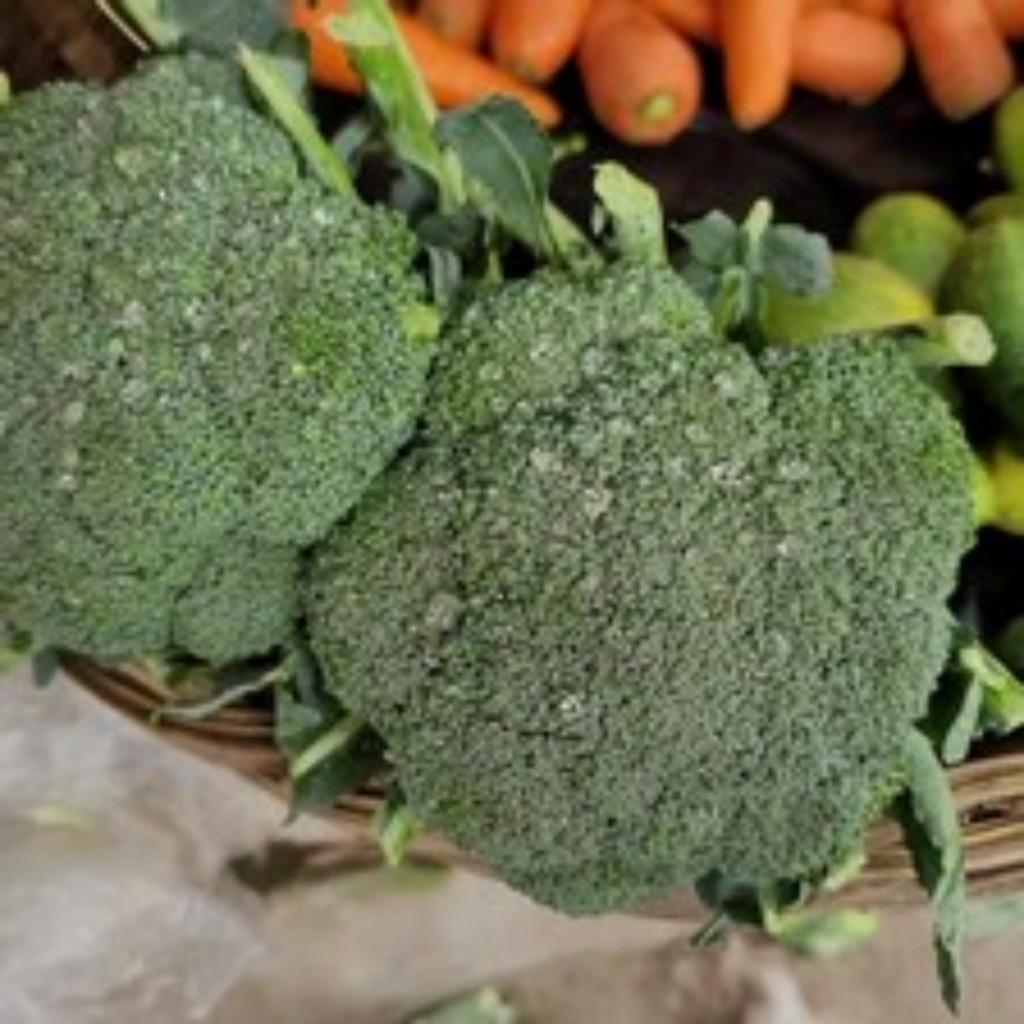Broccoli: (304, 264, 972, 907), (304, 264, 972, 905), (0, 64, 426, 661), (0, 70, 424, 659)
